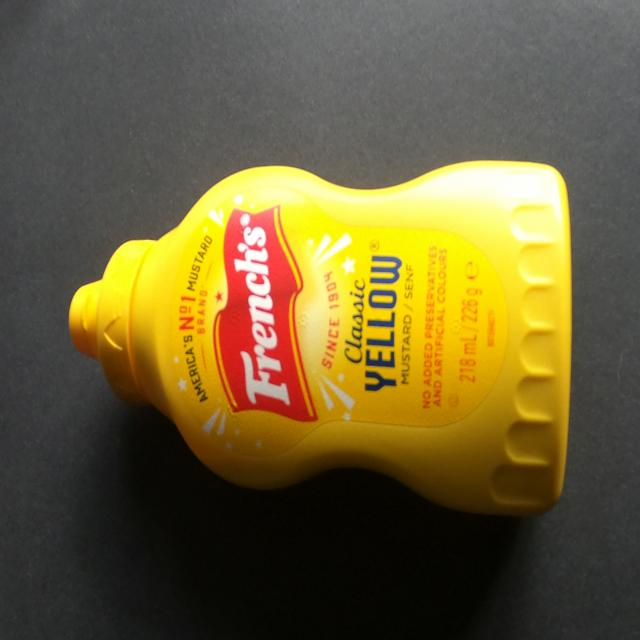Mustard: (60, 147, 581, 535)
